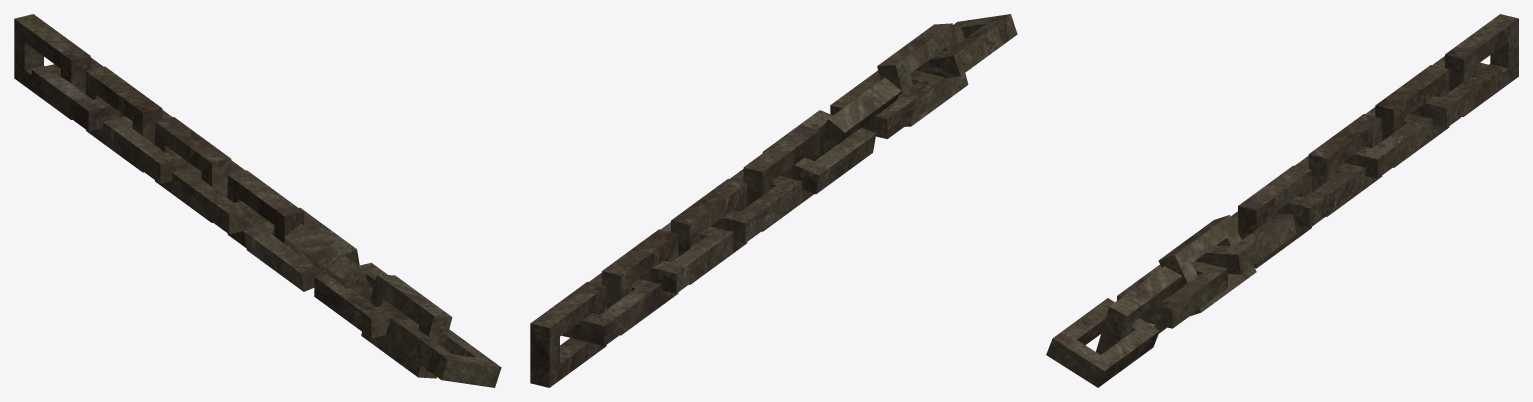
The model's file is TI_Chain_04.fbx.
The picture shows the model from 3 angles, left to right: view 1: azimuth 30°, elevation 25°; view 2: azimuth 150°, elevation 25°; view 3: azimuth 330°, elevation 25°; orthographic projection. The views are drawn at different scales.
Visible parts, largest first — view 1: TI_Chain_04; view 2: TI_Chain_04; view 3: TI_Chain_04.
Part boxes in pixels (<box>): TI_Chain_04: <box>14,14,501,387</box>; TI_Chain_04: <box>530,14,1017,387</box>; TI_Chain_04: <box>1046,14,1518,387</box>.
Bounding box in the file's own units: 0.0918 × 0.0918 × 1.18.
